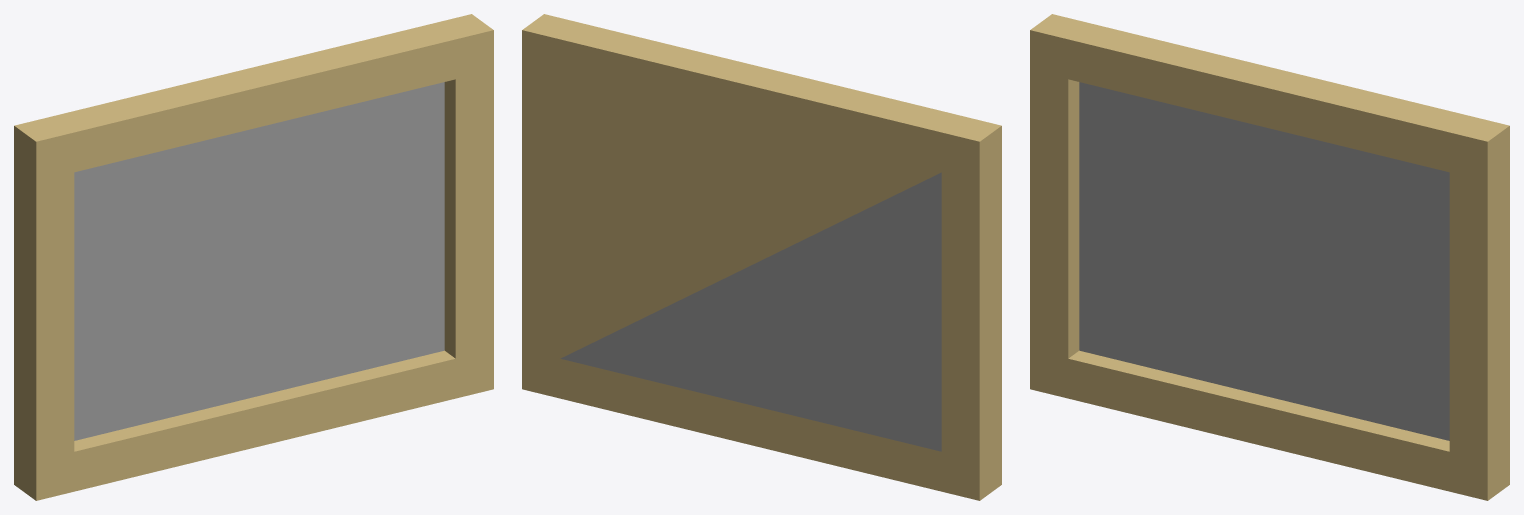
The model's file is Mirror.gltf.
3 views of the same model, side by side, from view 1: azimuth 30°, elevation 25°; view 2: azimuth 150°, elevation 25°; view 3: azimuth 330°, elevation 25° (orthographic).
Parts seen in each view (by area): view 1: Layer.1; view 2: Layer.1; view 3: Layer.1.
Part boxes in pixels (<box>): Layer.1: <box>14,14,493,500</box>; Layer.1: <box>522,14,1001,500</box>; Layer.1: <box>1030,14,1509,500</box>.
Size of the model in its own units: 24 by 18 by 2.
